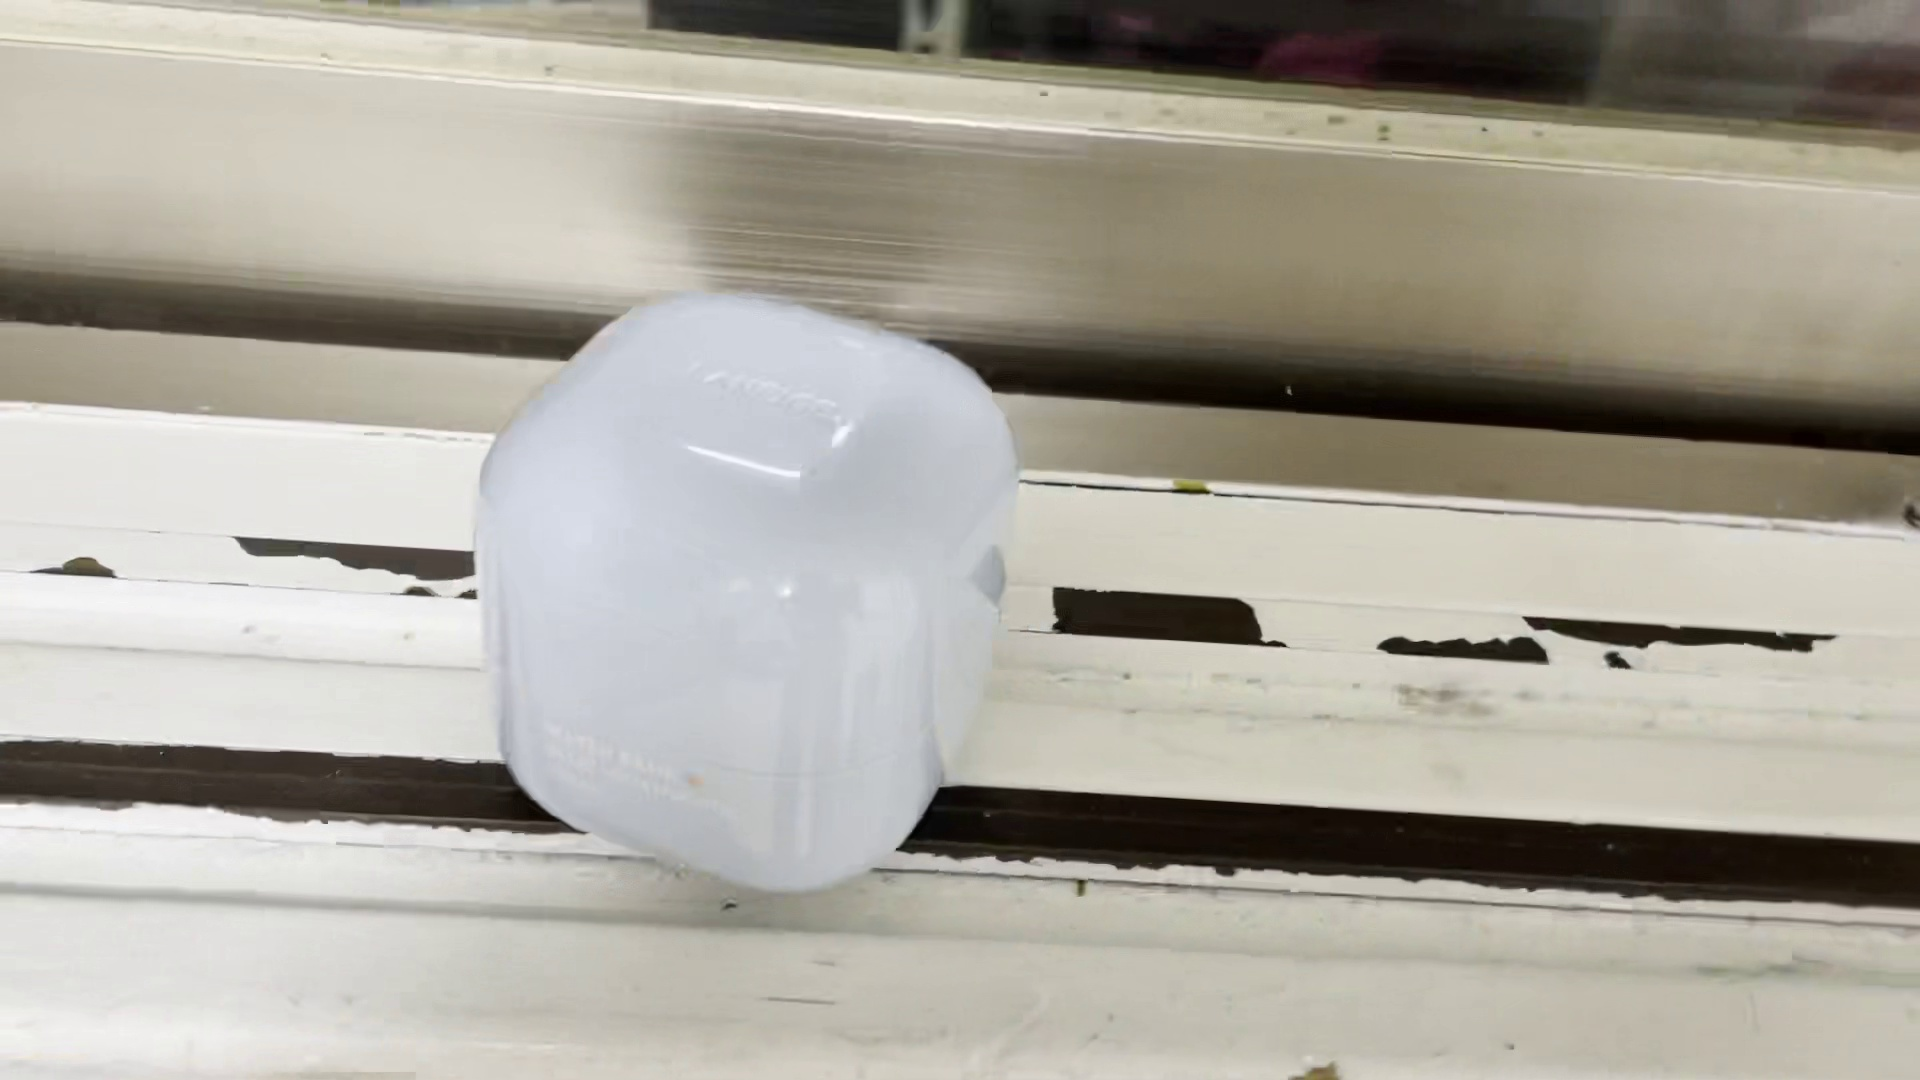cream: (471, 291, 1018, 894)
